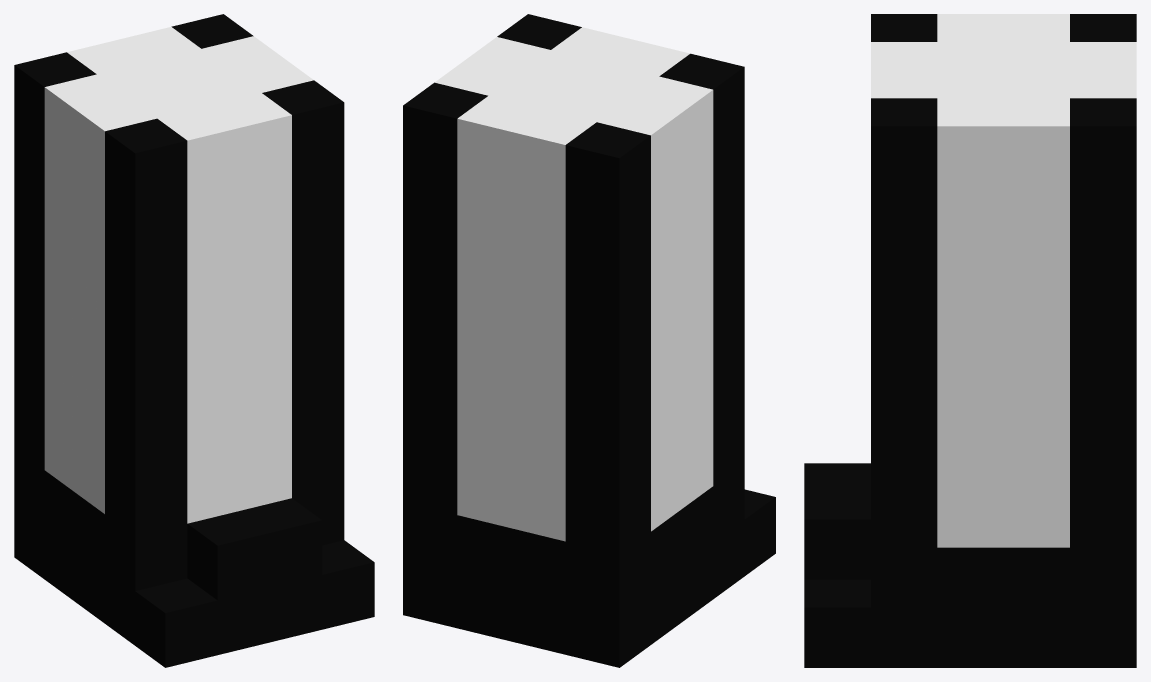
File: LowerLeg.obj
3 views of the same model, side by side, from view 1: azimuth 30°, elevation 25°; view 2: azimuth 150°, elevation 25°; view 3: azimuth 270°, elevation 25° (orthographic). The views are drawn at different scales.
Parts seen in each view (by area): view 1: LowerLeg; view 2: LowerLeg; view 3: LowerLeg.
Boxes of the visible parts, box(x1,y1,x2,y2) form: LowerLeg: box(14, 14, 374, 667); LowerLeg: box(403, 14, 775, 667); LowerLeg: box(804, 14, 1136, 667).
Size of the model in its own units: 0.4 by 0.9 by 0.5.
Materials: 1 (1 with a texture image).
